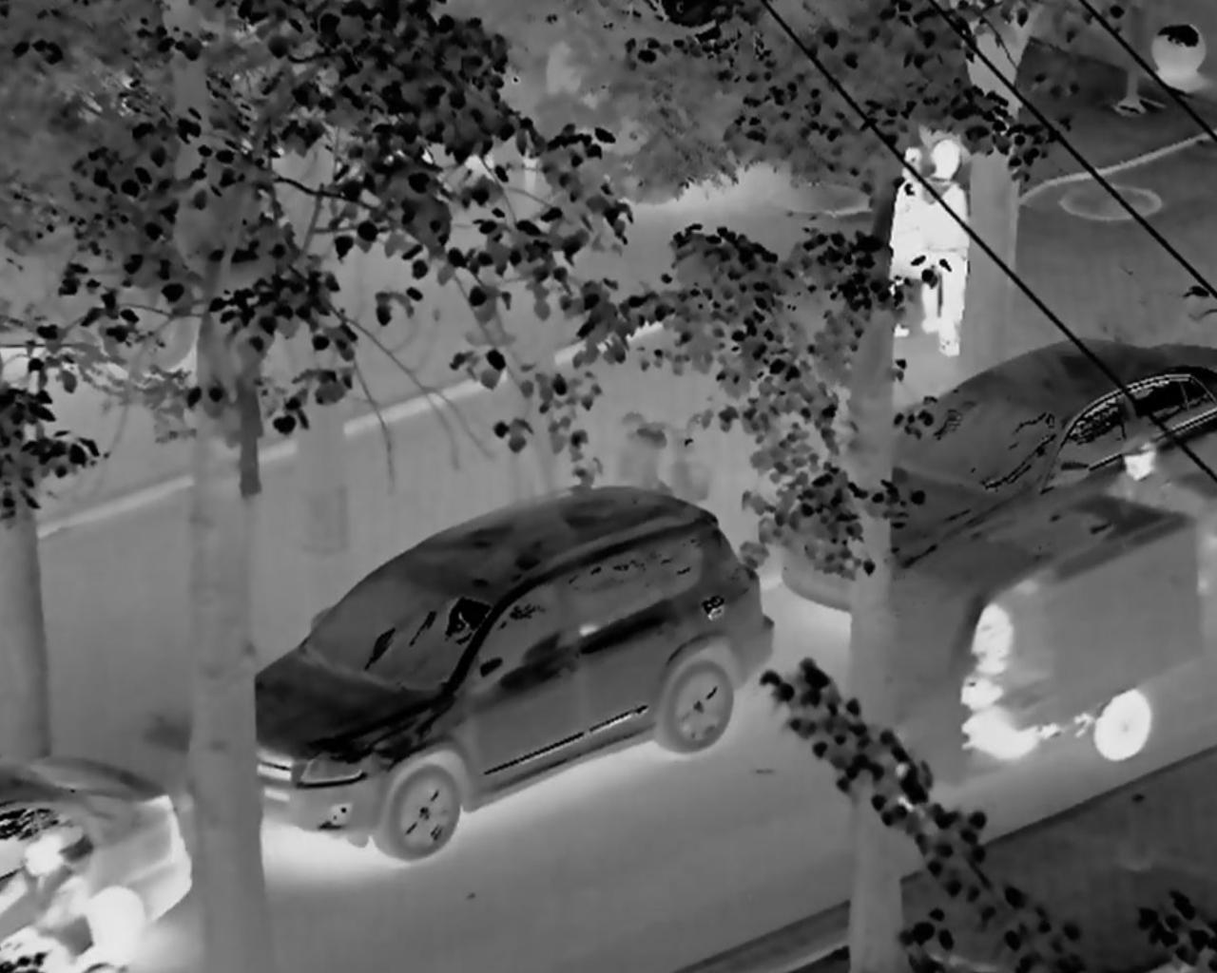person: (918, 139, 974, 374), (881, 148, 934, 351), (17, 838, 91, 969), (969, 600, 1010, 729)
